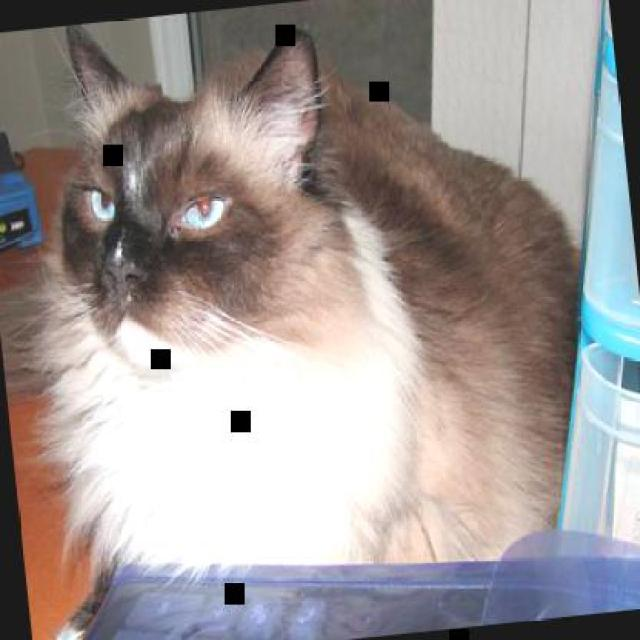cat: (11, 0, 611, 614)
